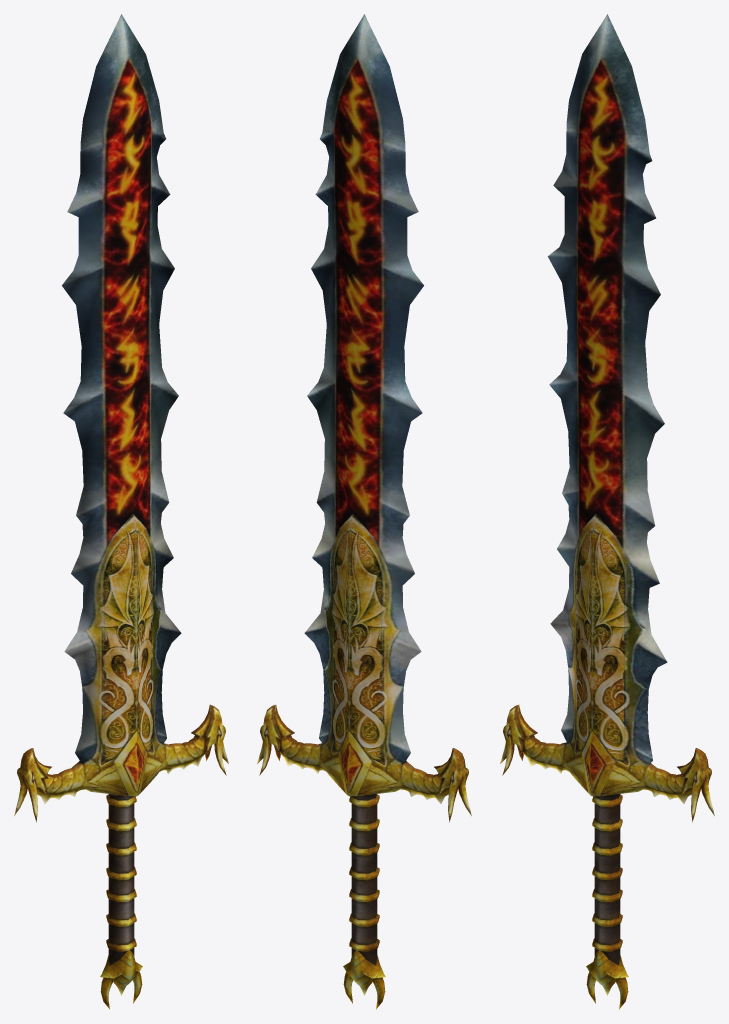
The model's file is card_bladefire_edge.glb.
The picture shows the model from 3 angles, left to right: view 1: azimuth 30°, elevation 25°; view 2: azimuth 150°, elevation 25°; view 3: azimuth 330°, elevation 25°; orthographic projection.
Visible parts, largest first — view 1: card_bladefire_edge; view 2: card_bladefire_edge; view 3: card_bladefire_edge.
Part boxes in pixels (x1,y1,x2,y2): card_bladefire_edge: [14, 14, 228, 1009]; card_bladefire_edge: [257, 14, 471, 1009]; card_bladefire_edge: [500, 14, 714, 1009].
Bounding box in the file's own units: 0.3357 × 1.48 × 0.094.
Materials: 1 (1 with a texture image).
